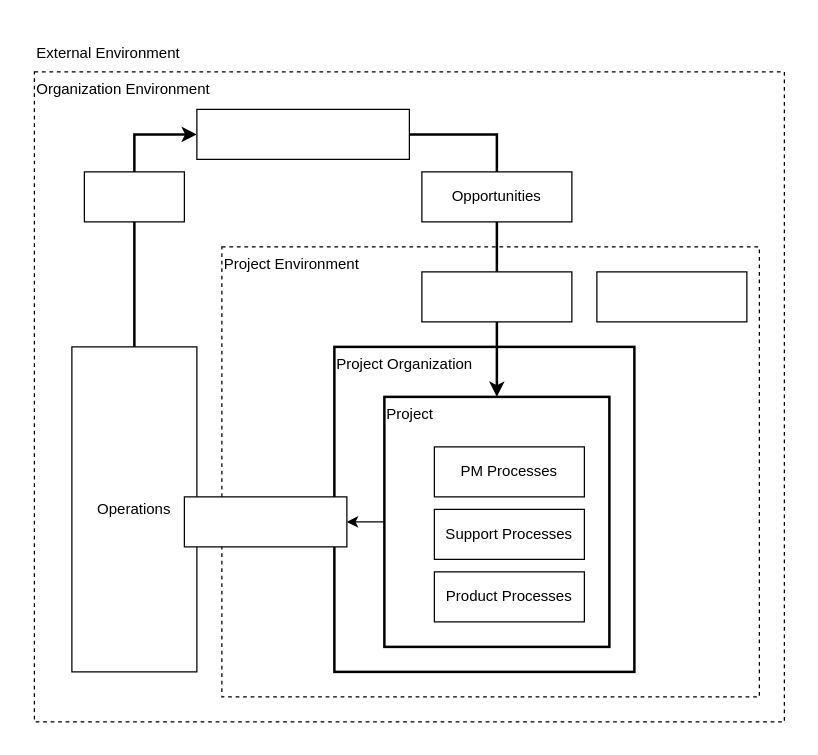
This 818x755 diagram has some shape labels left out. The centre of each missing label's shape, as x and y in pixels:
Benefits: (133,196)
Business Case: (496,296)
Deliverables: (265,521)
Organizational Strategy: (302,133)
Project Governance: (671,296)
